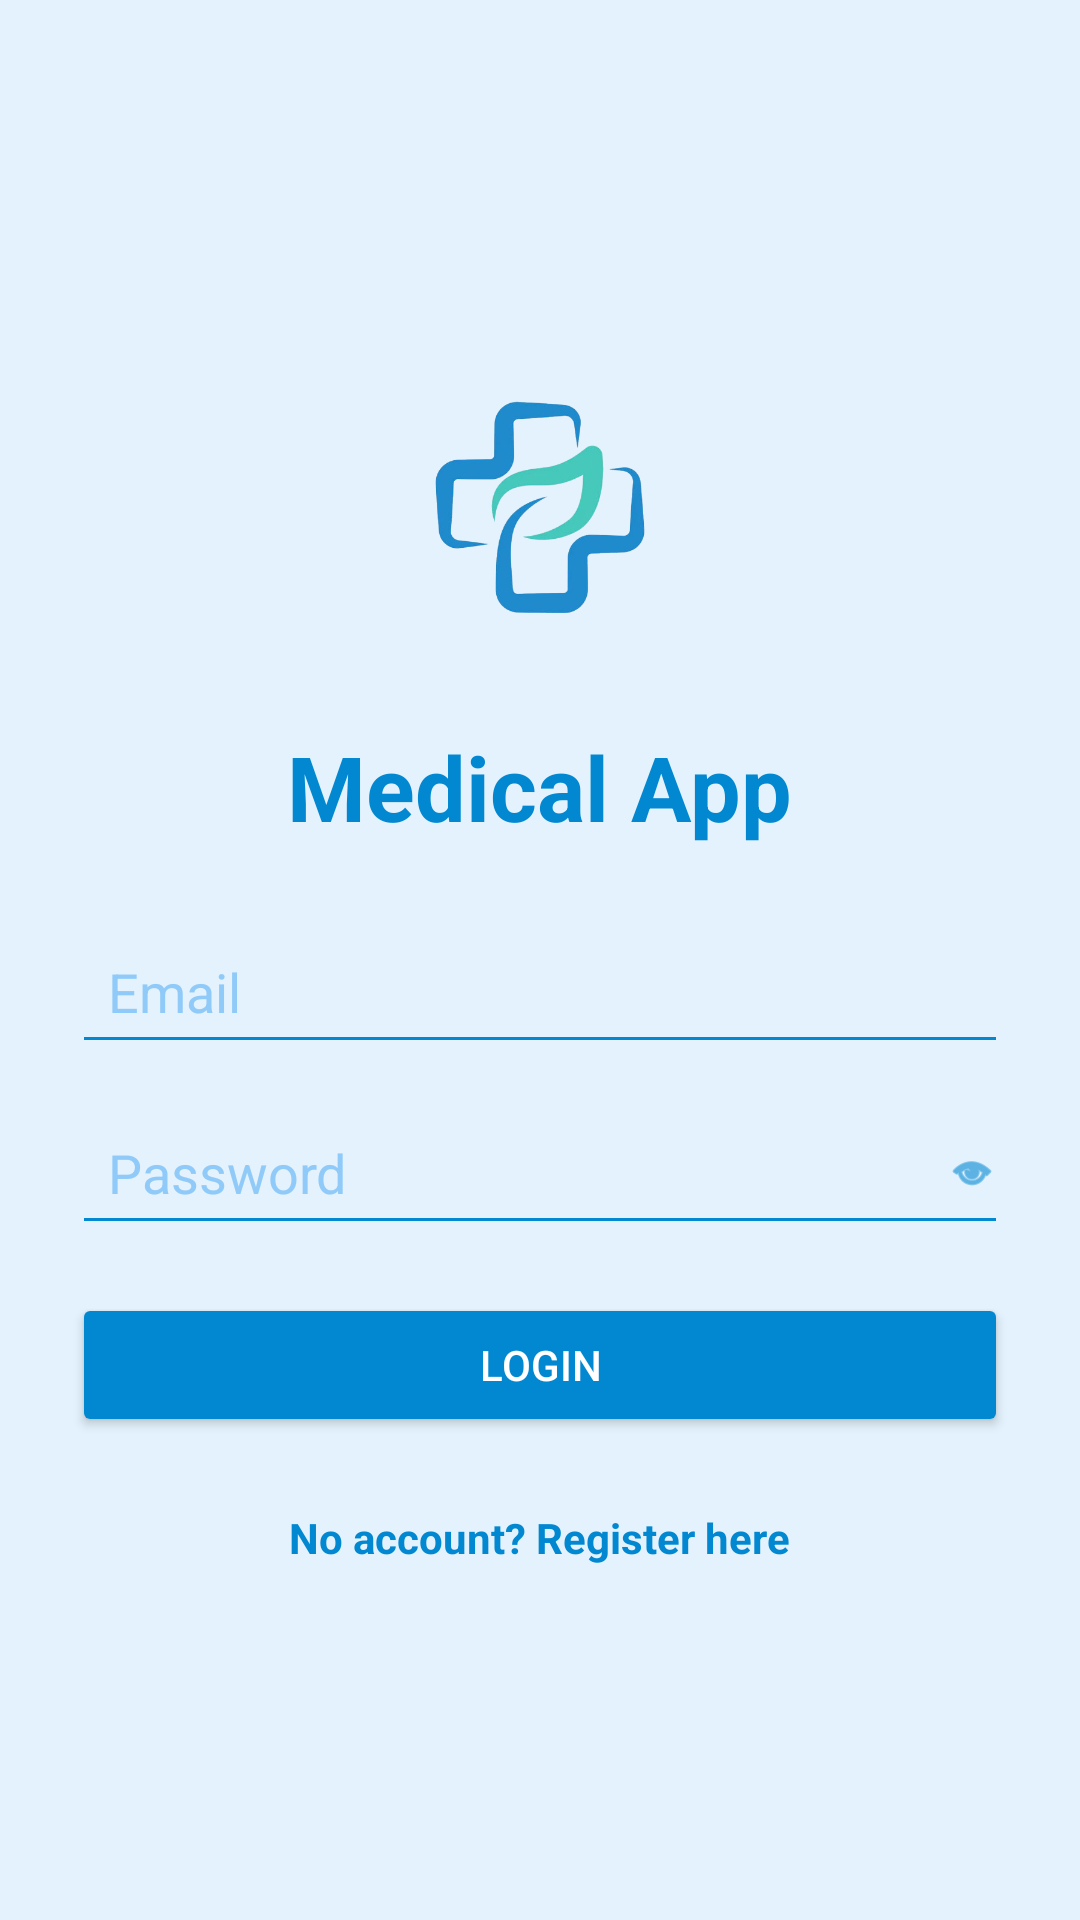

Named icons in this screenshot (1080w x 1920h) and their centers, (x=x, y=y):
view: (x=972, y=1173)
